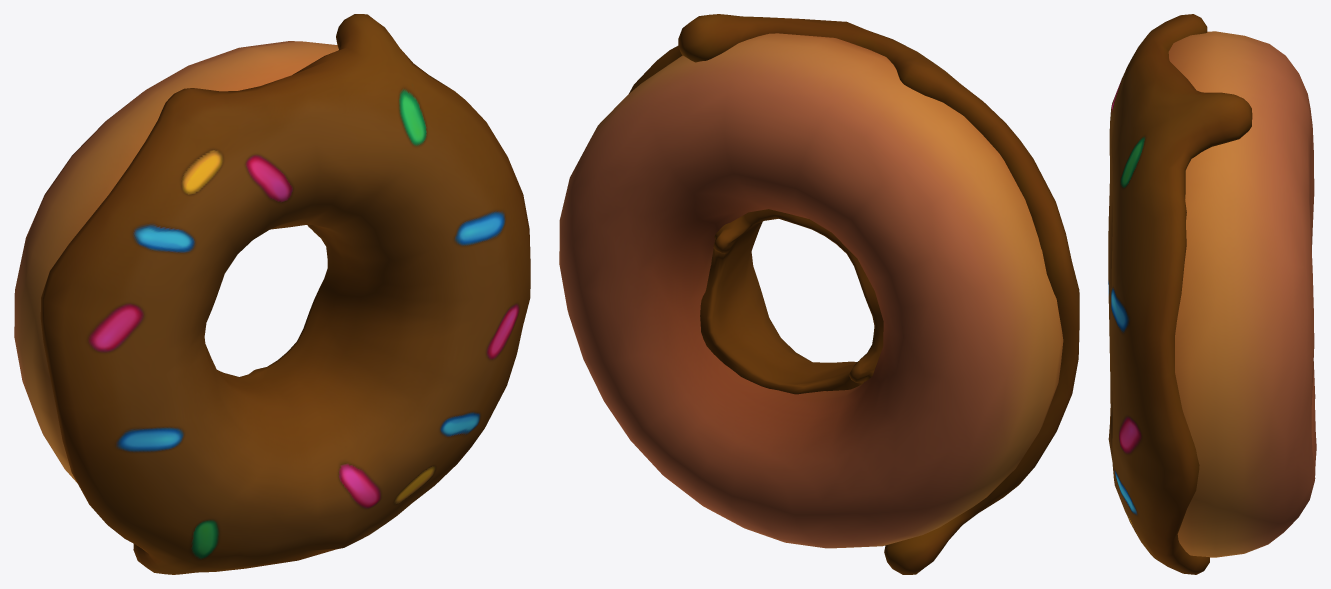
Rendered from TianTianQuan7.FBX.
3 renders of one model, left to right at view 1: azimuth 30°, elevation 25°; view 2: azimuth 150°, elevation 25°; view 3: azimuth 270°, elevation 25°, orthographic. The views are drawn at different scales.
Visible parts, largest first — view 1: TianTianQuan; view 2: TianTianQuan; view 3: TianTianQuan.
Part boxes in pixels (x1=…): TianTianQuan: x1=14, y1=14, x2=530, y2=574; TianTianQuan: x1=559, y1=14, x2=1079, y2=574; TianTianQuan: x1=1108, y1=14, x2=1316, y2=574.
Bounding box in the file's own units: 67.93 × 67.59 × 25.87.
